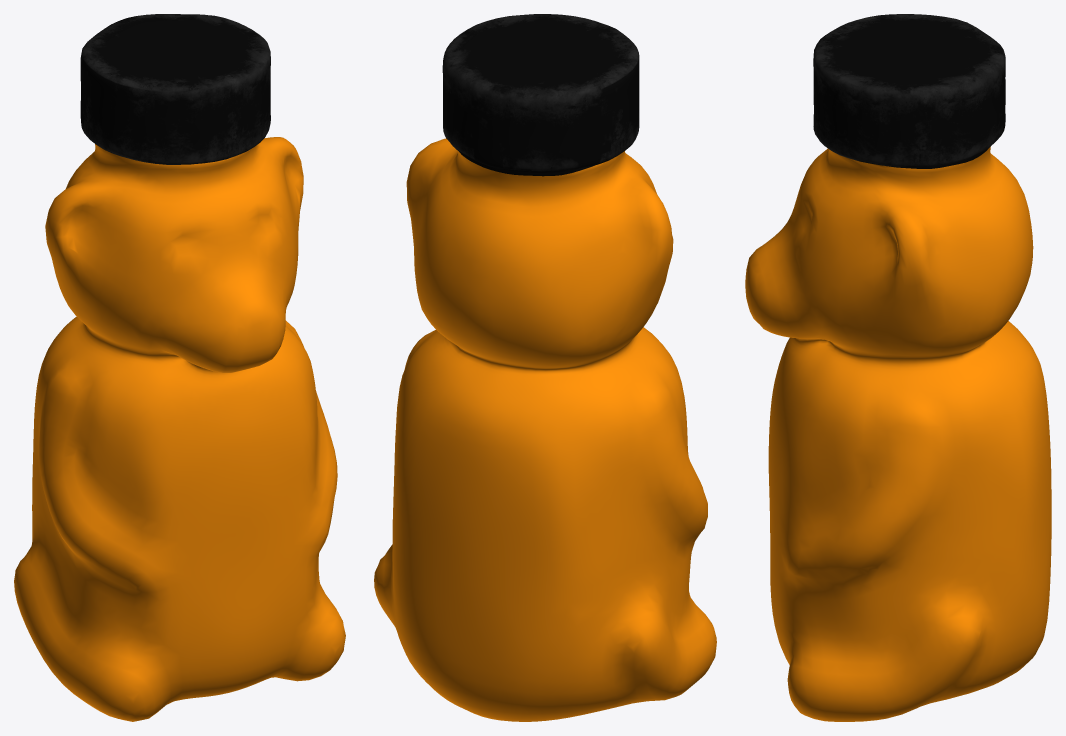
File: honeybear.gltf
3 renders of one model, left to right at view 1: azimuth 30°, elevation 25°; view 2: azimuth 150°, elevation 25°; view 3: azimuth 270°, elevation 25°, orthographic. The views are drawn at different scales.
Parts seen in each view (by area): view 1: Plane_002 (×2); view 2: Plane_002 (×2); view 3: Plane_002 (×2).
Part boxes in pixels (x1,y1,x2,y2): Plane_002 (×2): (14, 14, 345, 721); Plane_002 (×2): (374, 14, 716, 721); Plane_002 (×2): (745, 14, 1051, 721).
Size of the model in its own units: 0.9309 by 2 by 0.8858.
